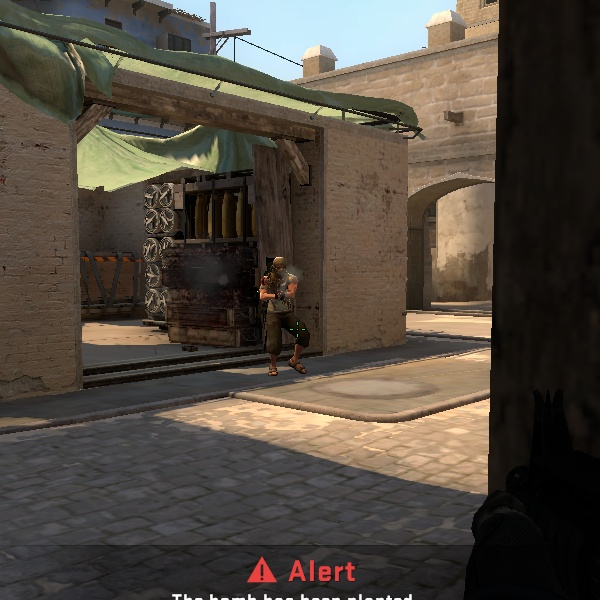t_body: (253, 247, 317, 373)
t_head: (264, 252, 291, 280)
